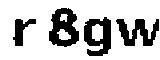8: (48, 6, 81, 50)
g: (81, 16, 114, 60)
r: (13, 17, 41, 49)
w: (114, 13, 160, 53)
